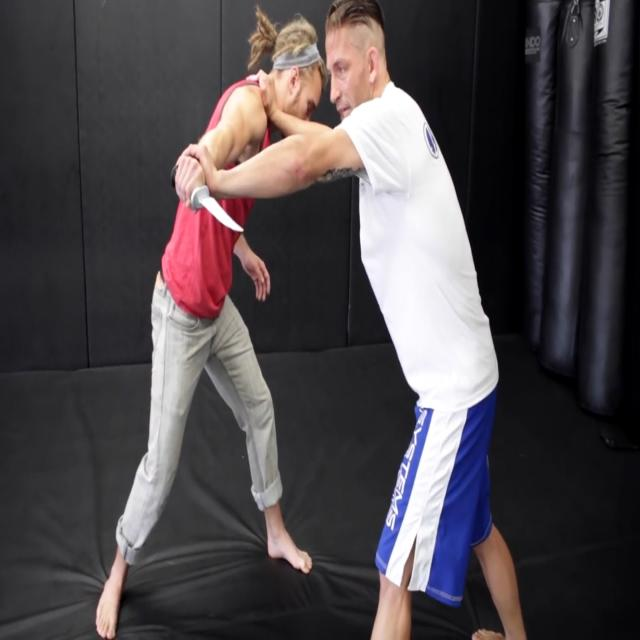knife: (191, 188, 246, 237)
